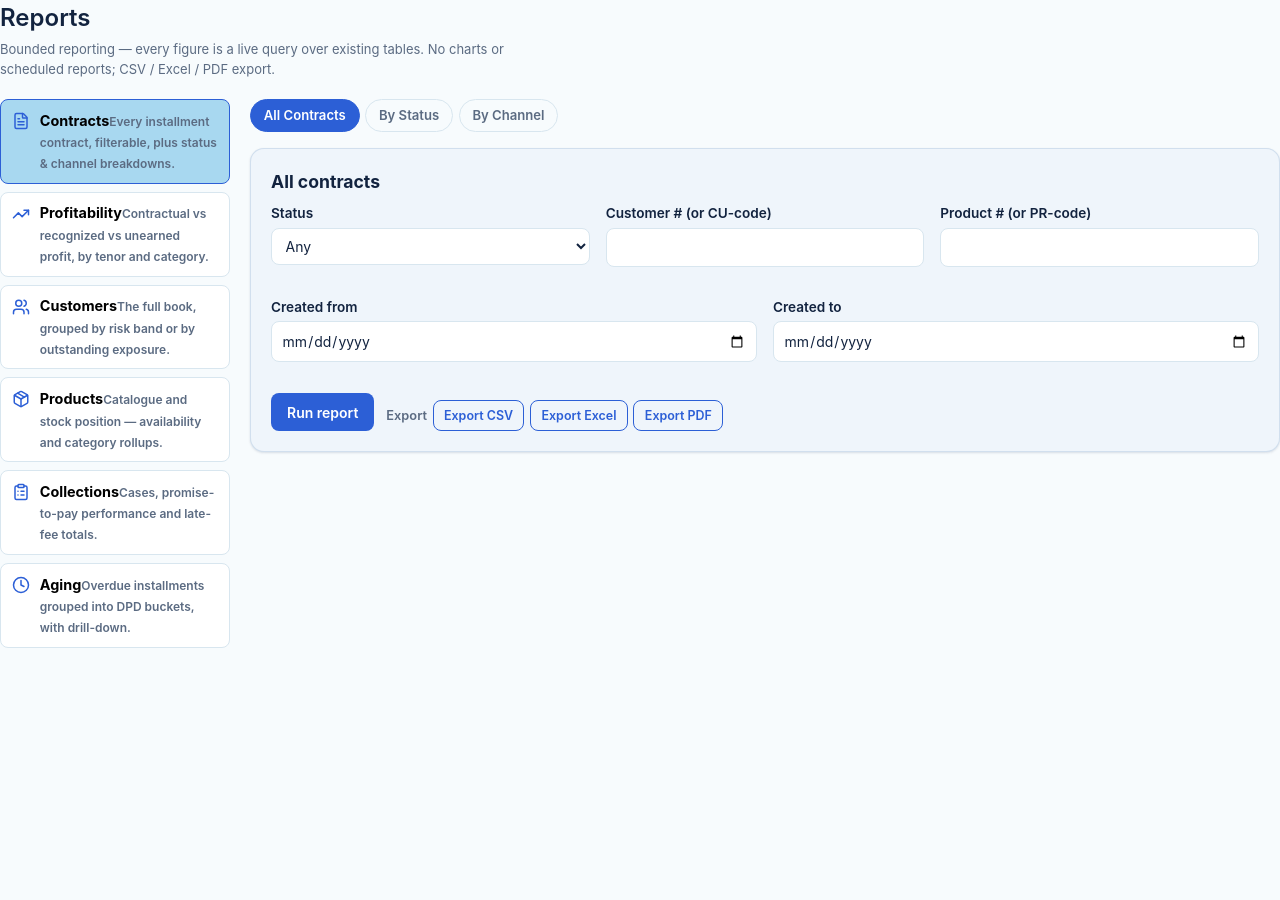
Step 12 — Profitability drill-down › switches level to Customer, shows the picker, and re-runs scoped
Click the tab "Profitability" at (115, 234), box [0, 192, 230, 277]
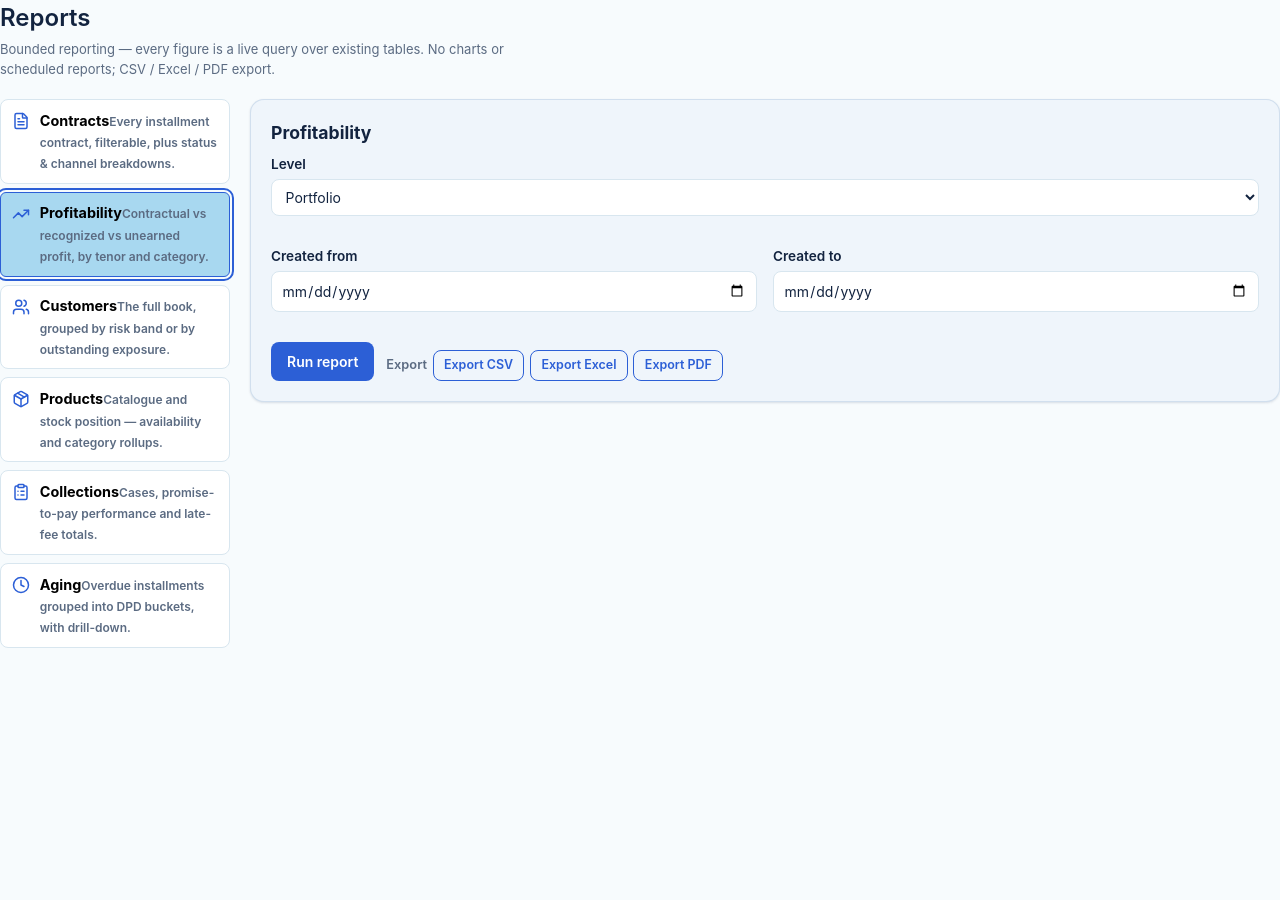
Select "Customer" in the dropdown labelled "Level" at (765, 197), box [271, 179, 1259, 216]
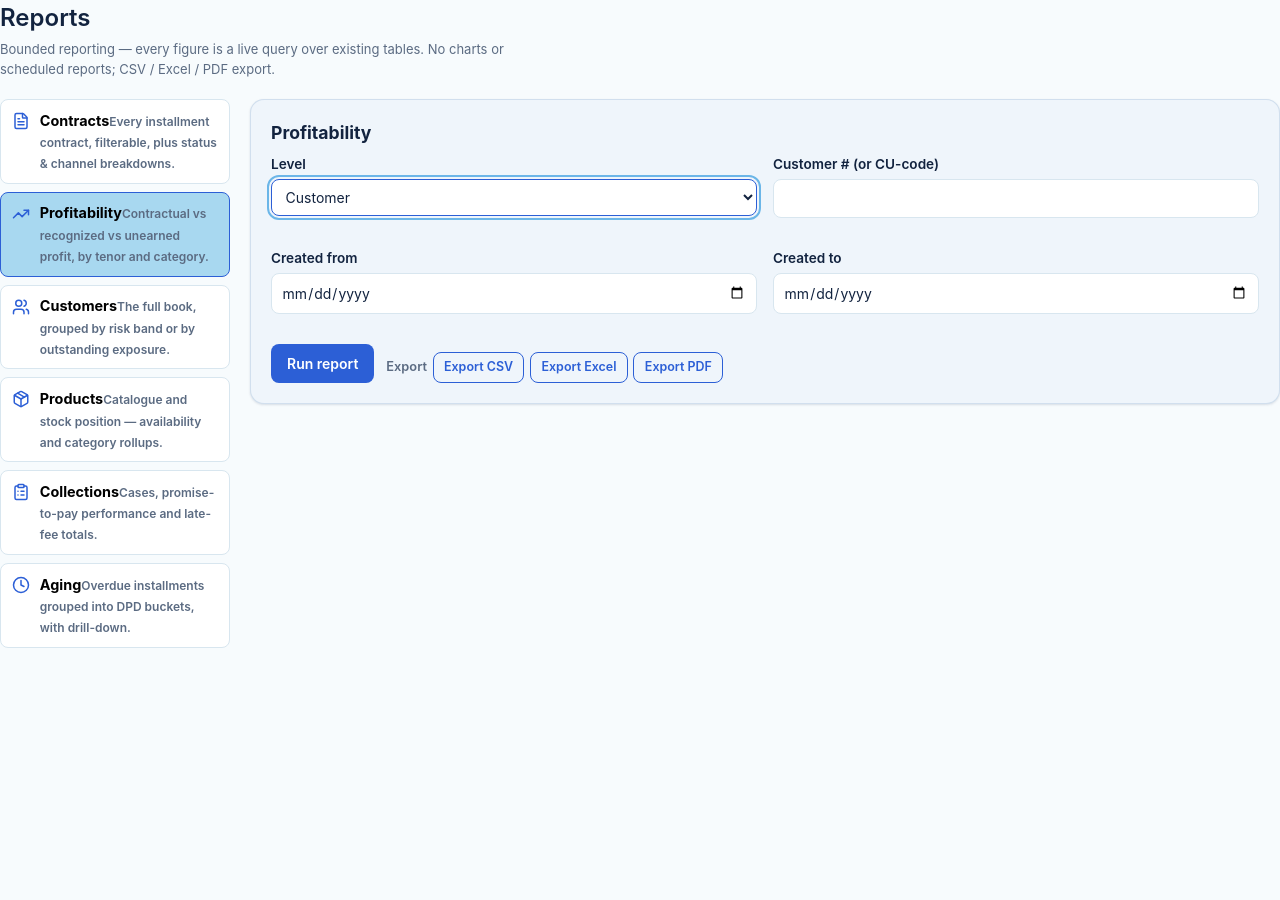
// the customer picker appears
Type "7" into the field labelled "Customer # (or CU-code)" at (1016, 198), box [773, 179, 1259, 218]
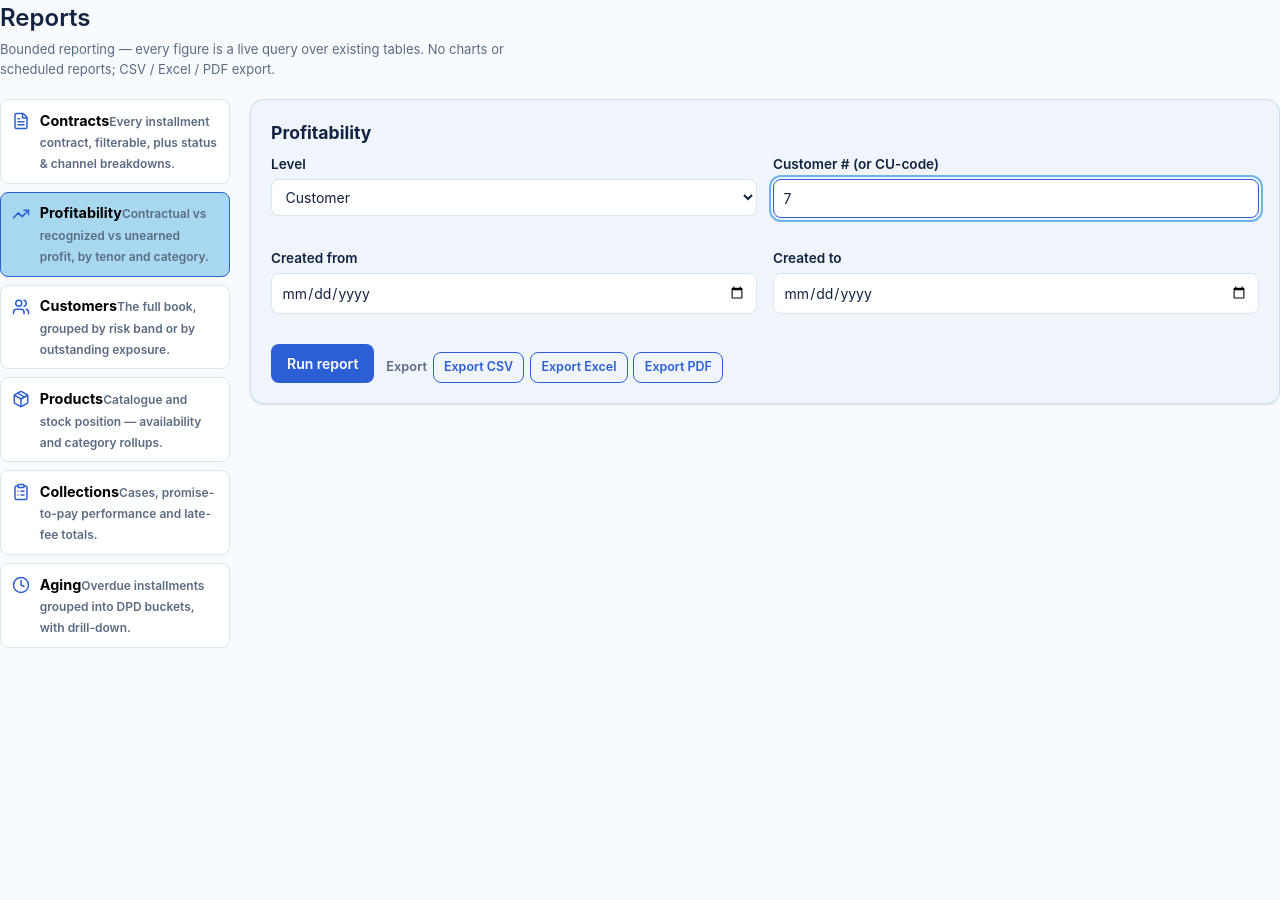
Click the button "Run report" at (323, 363), box [271, 344, 374, 383]
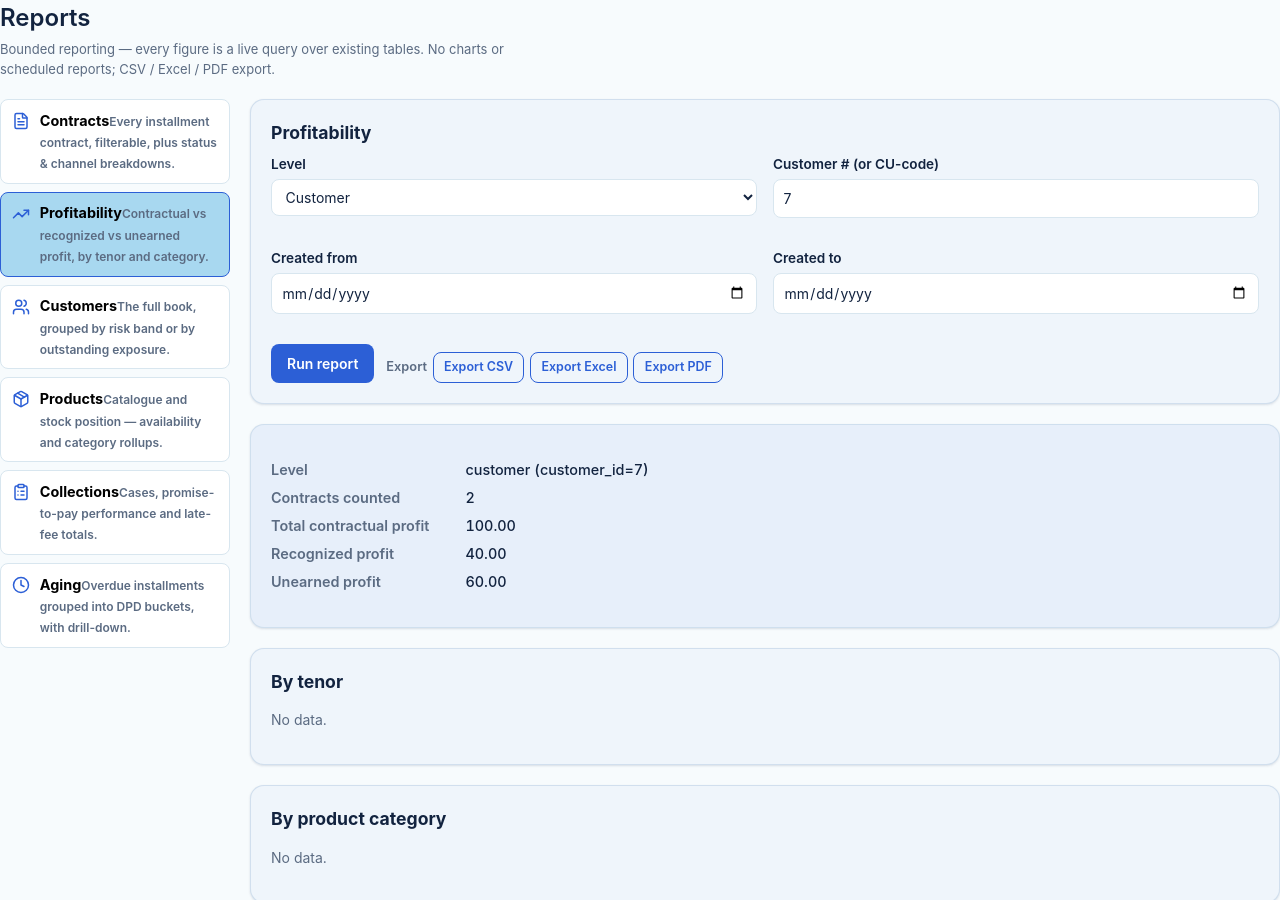
Now the text with test id "prof-level" shows "customer", box [465, 461, 530, 478]
Now the text with test id "prof-count" reads "2", box [465, 489, 475, 506]
